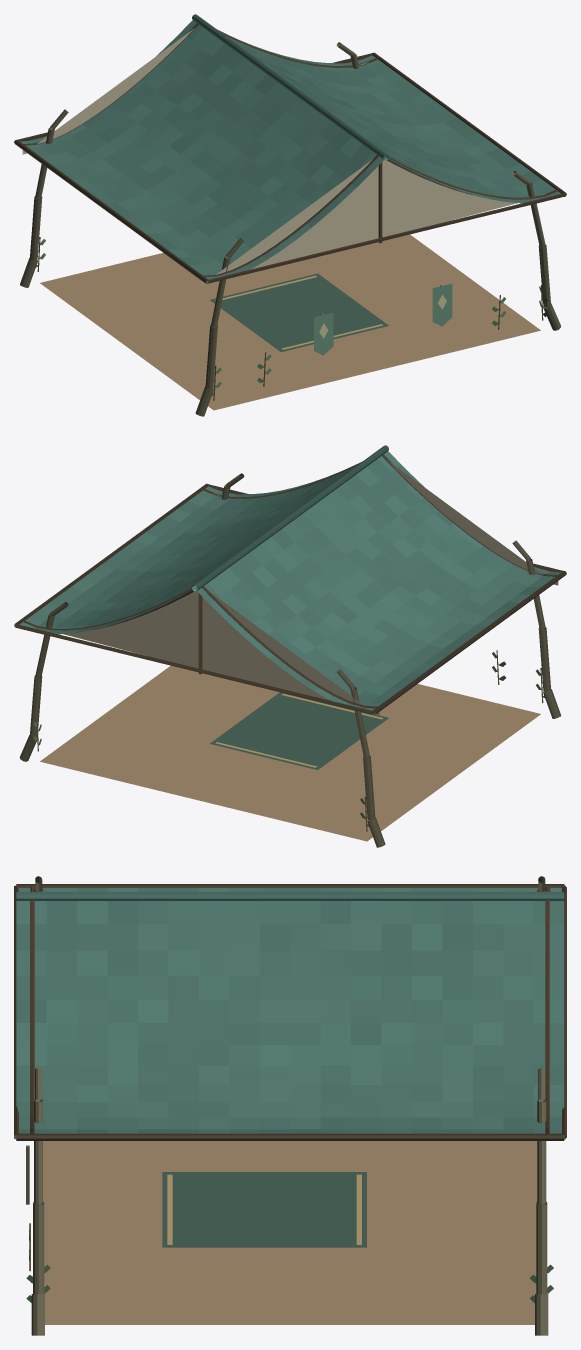
3 renders of one model, top to bottom at view 1: azimuth 30°, elevation 25°; view 2: azimuth 150°, elevation 25°; view 3: azimuth 270°, elevation 25°, orthographic. The views are drawn at different scales.
Visible parts, largest first — view 1: cf63688b95cbe113bf952f33fde25f9811d4aa9df5ce282e4097aec4e24e; view 2: cf63688b95cbe113bf952f33fde25f9811d4aa9df5ce282e4097aec4e24e; view 3: cf63688b95cbe113bf952f33fde25f9811d4aa9df5ce282e4097aec4e24e.
Boxes of the visible parts, left/top/right/bottom form: cf63688b95cbe113bf952f33fde25f9811d4aa9df5ce282e4097aec4e24e: left=14, top=14, right=566, bottom=416; cf63688b95cbe113bf952f33fde25f9811d4aa9df5ce282e4097aec4e24e: left=14, top=445, right=566, bottom=847; cf63688b95cbe113bf952f33fde25f9811d4aa9df5ce282e4097aec4e24e: left=14, top=876, right=566, bottom=1335.
Size of the model in its own units: 14.13 by 8.31 by 12.97.
6 materials, 1 textured.
